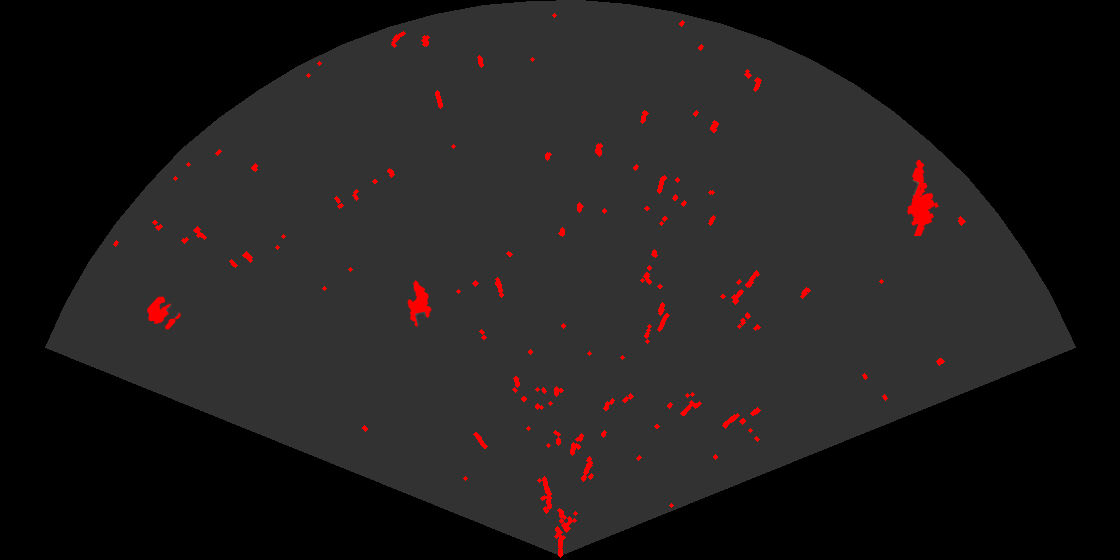AUV: (406, 279, 433, 328)
ball: (145, 295, 182, 331)
frogman: (906, 158, 940, 236)
